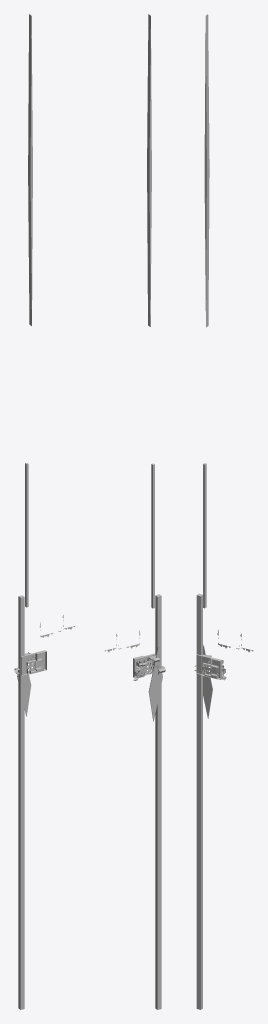
The model's file is BATTLE.fbx.
3 renders of one model, left to right at view 1: azimuth 30°, elevation 25°; view 2: azimuth 210°, elevation 25°; view 3: azimuth 330°, elevation 25°, orthographic.
Visible parts, largest first — view 1: shadow, shadow (1), shadow (3), s_outworld_base_6, shadow (2); view 2: shadow, shadow (1), shadow (3), shadow (2), s_outworld_base_6; view 3: shadow, shadow (1), shadow (3), s_outworld_base_6, shadow (2).
Boxes of the visible parts, <box> form: shadow: <box>18,595,24,1009</box>; shadow (1): <box>28,14,32,325</box>; shadow (3): <box>25,463,28,607</box>; s_outworld_base_6: <box>21,650,46,675</box>; shadow (2): <box>17,670,31,716</box>; shadow: <box>155,594,161,1009</box>; shadow (1): <box>147,14,151,326</box>; shadow (3): <box>151,463,154,608</box>; shadow (2): <box>148,647,162,721</box>; s_outworld_base_6: <box>133,653,155,677</box>; shadow: <box>196,593,202,1009</box>; shadow (1): <box>204,14,209,327</box>; shadow (3): <box>203,463,206,608</box>; s_outworld_base_6: <box>196,654,222,679</box>; shadow (2): <box>203,644,212,718</box>.
Size of what is drawn, in the model's own units: 0.476 by 7.69 by 0.0861.
